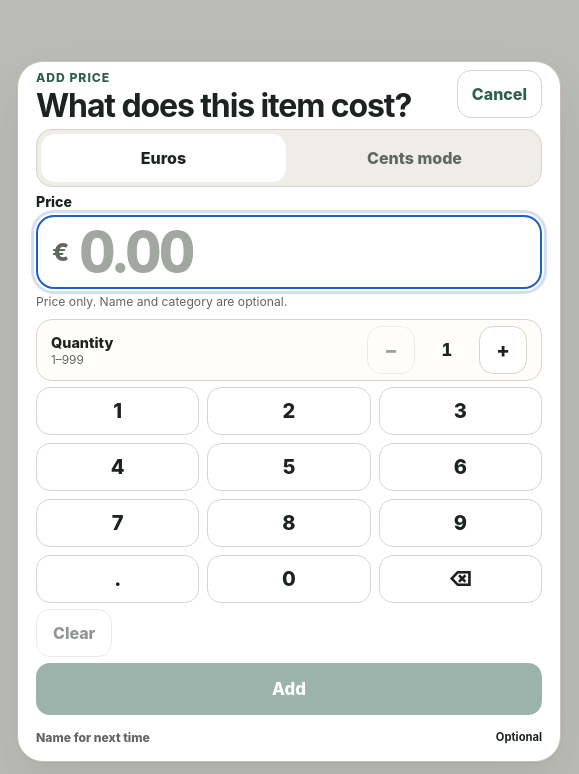
PriceEntrySurface › previews exact remaining without mutating the active trip
In the field labelled "Price": {"x": 302, "y": 252} [77, 217, 526, 287], type "4.79"
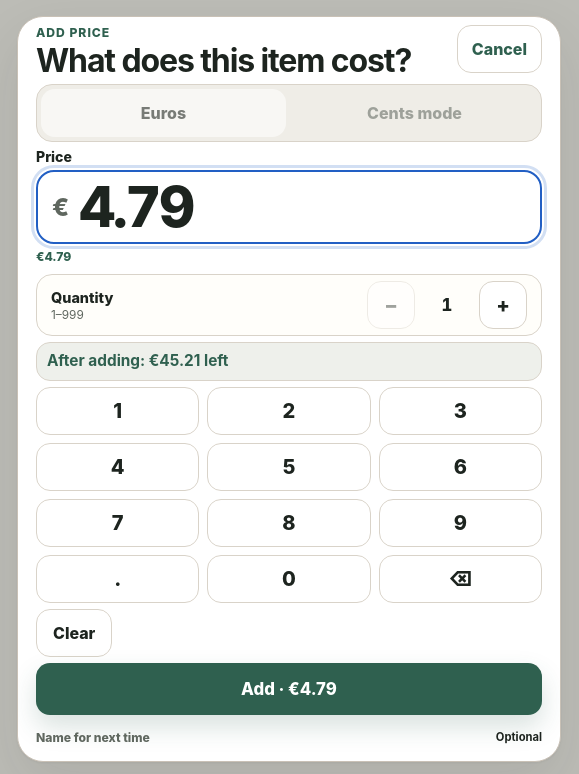
expect the text "After adding: €45.21 left" is shown: met, box [47, 351, 228, 370]
expect the element named "Projected cart result" is shown: met, box [36, 342, 542, 381]
